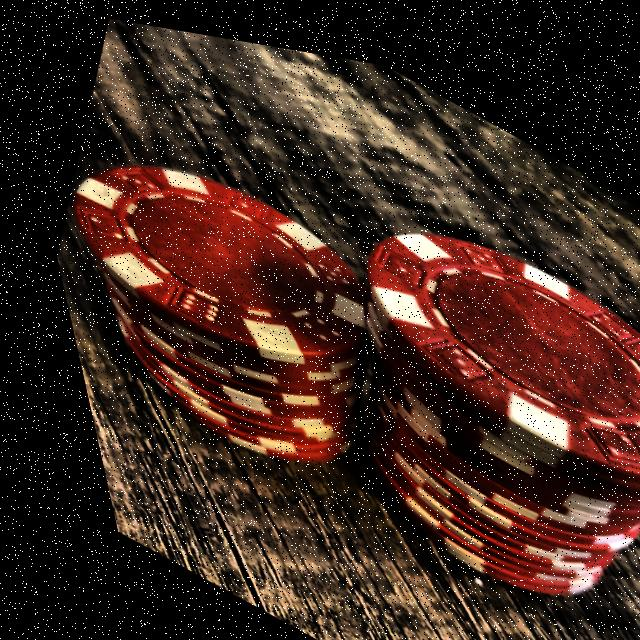Chip: (195, 114, 640, 640), (15, 83, 457, 523)
